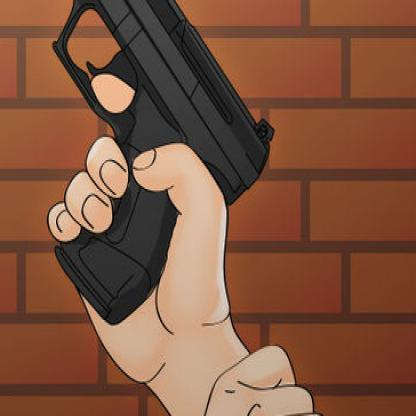gun: (25, 0, 284, 339)
